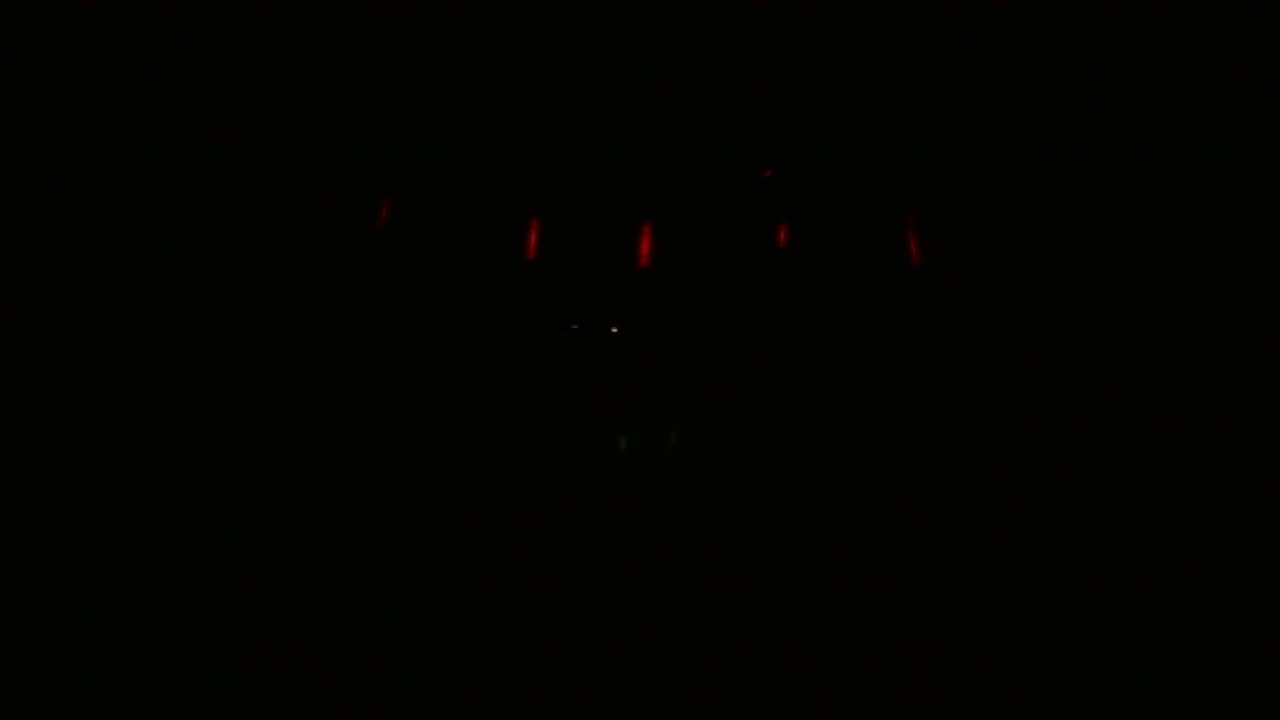pair1: (519, 213, 654, 267)
